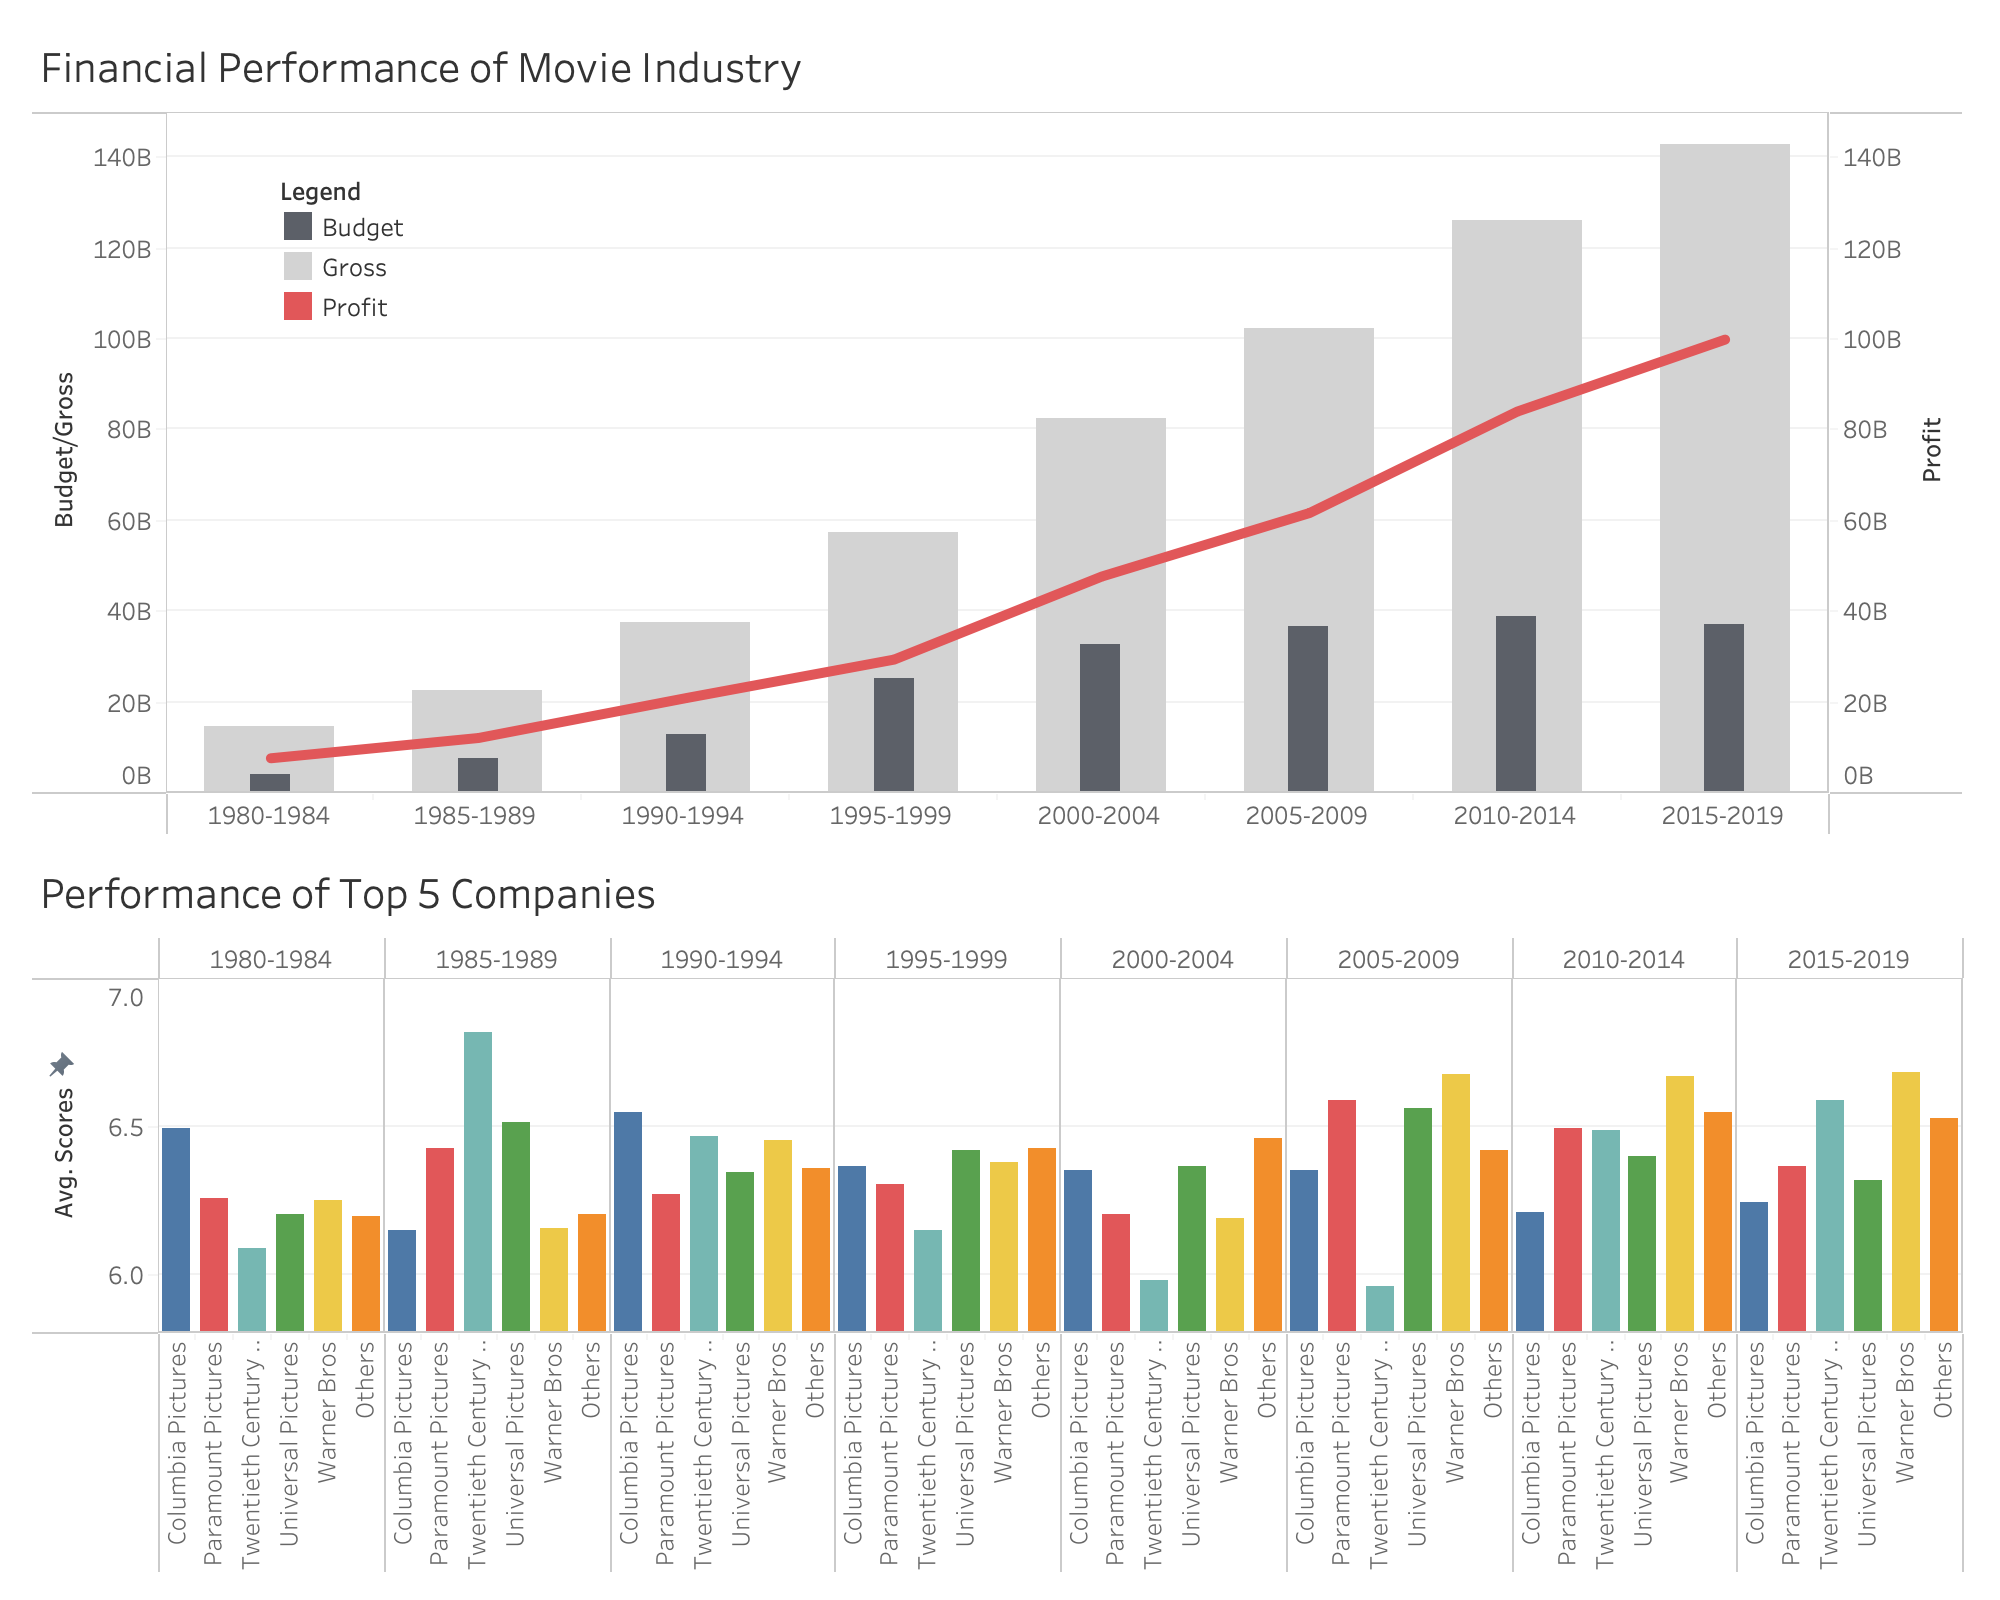

What the dashboard file says about the page in this screenshot:
{"tool":"tableau","page":{"name":"DBM 01","canvas":[1000,800],"ordinal":0},"visuals":[{"type":"worksheet","title":"V01-01","mark":"Line","rows":["Calculation_79164860240384000"],"box":[16,13,966,405]},{"type":"legend","title":"V01-01","param":"[federated.07oumet1suogtf10xr3mq0r8cats].[:Measure Names]","box":[139,85,140,78]},{"type":"worksheet","title":"V02-01","mark":"Automatic","rows":["Scores"],"box":[16,426,966,361]}]}

Visuals, with their boxes in screenshot pixels (x1, y1, x2, y2), scaled from the page's 1000x800 canvas onto the 2000x1600 screenshot:
"V01-01" worksheet (Line marks): <region>32, 26, 1964, 836</region>
"V01-01" legend: <region>278, 170, 558, 326</region>
"V02-01" worksheet: <region>32, 852, 1964, 1574</region>
